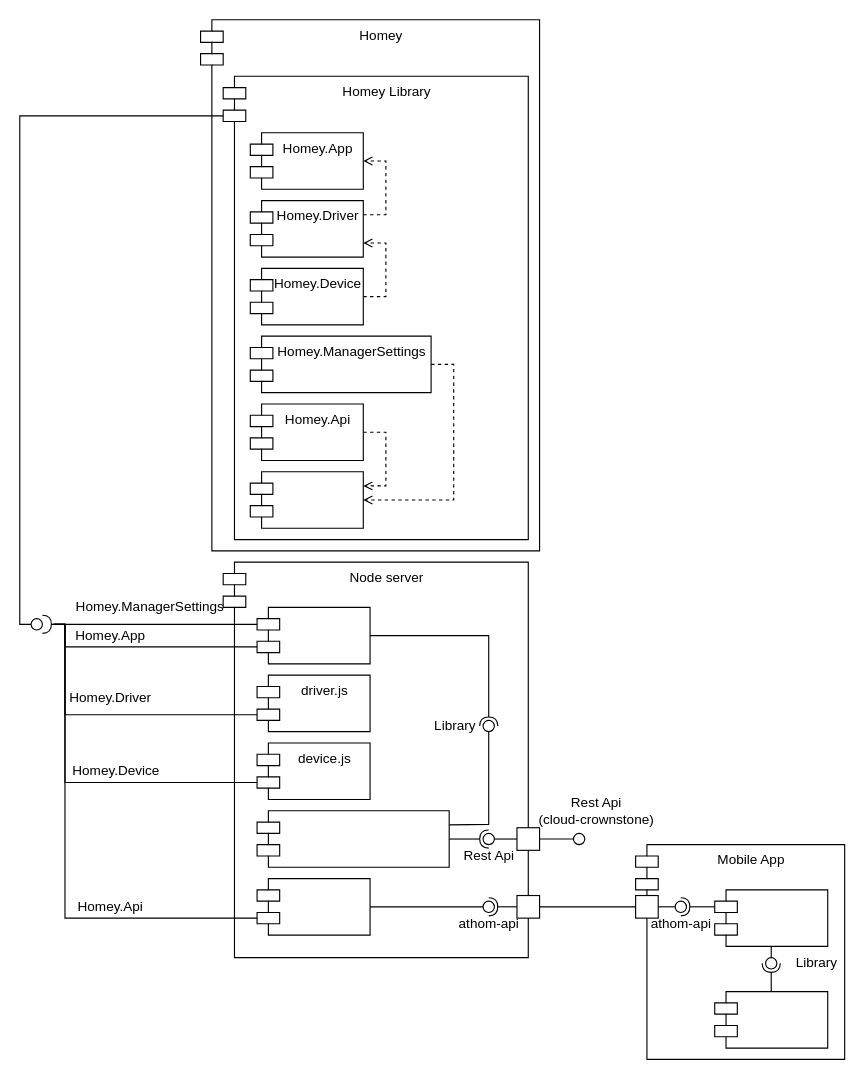
The diagram is 864 pixels wide and 1079 high, and some of its shapes have lost their labels. Here are the shapes that lost their labels. From the top down, the centre of each, then its label:
point (306, 499): Manager
point (313, 635): app.js
point (352, 838): Crownstone Cloud Library
point (313, 906): api.d.ts
point (771, 917): Homey.js
point (771, 1019): Index.html
